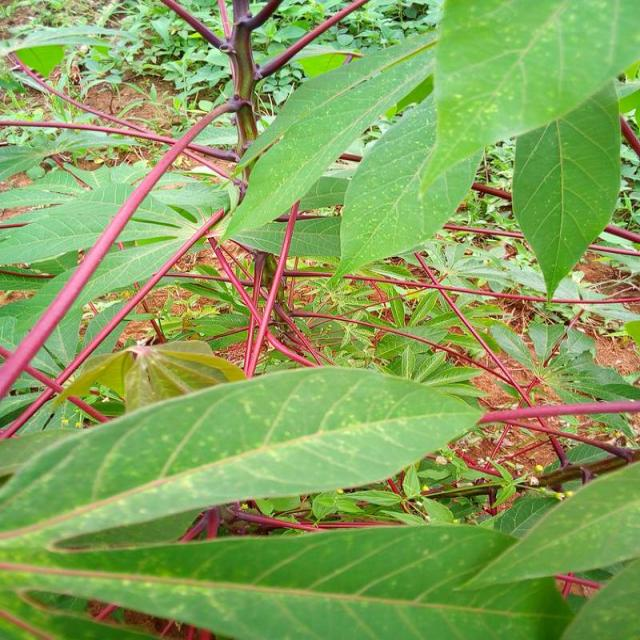cassava leaf: (2, 362, 486, 554), (224, 28, 441, 244), (336, 87, 486, 280), (511, 75, 623, 302)
